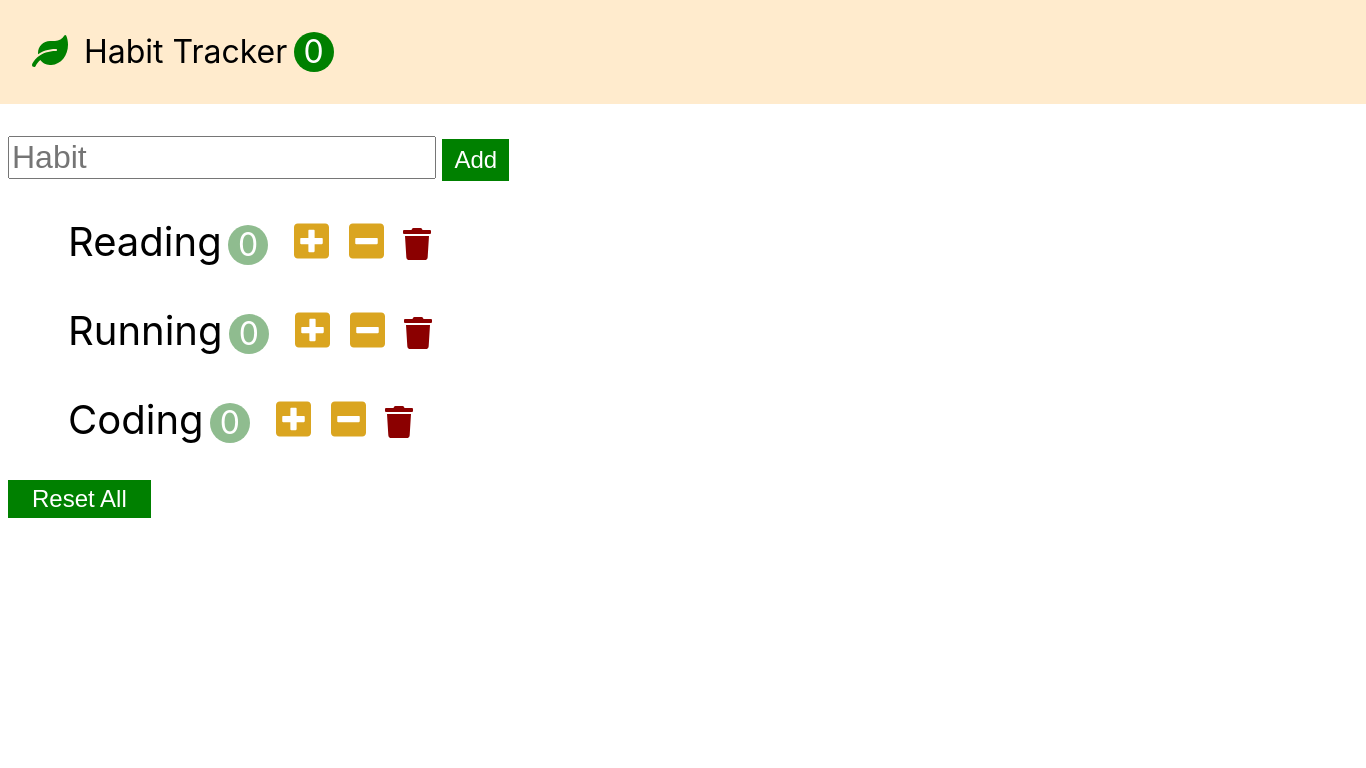
Test: Habit Tracker › add new habit to the end
The image size is (1366, 768).
Type "Debugging" into the field with placeholder "Habit" at [222, 158], box [8, 136, 436, 179]
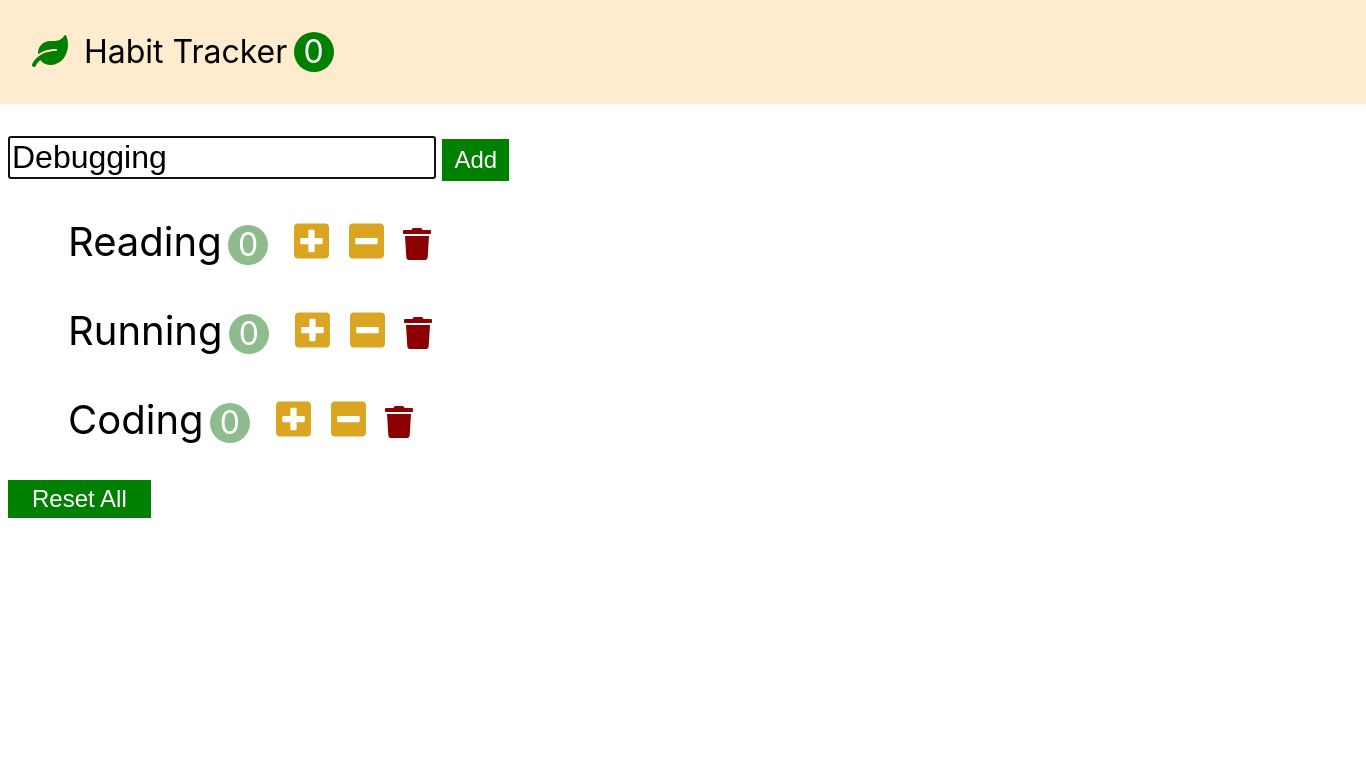
Click the button "Add" at [476, 160], box [442, 139, 509, 181]
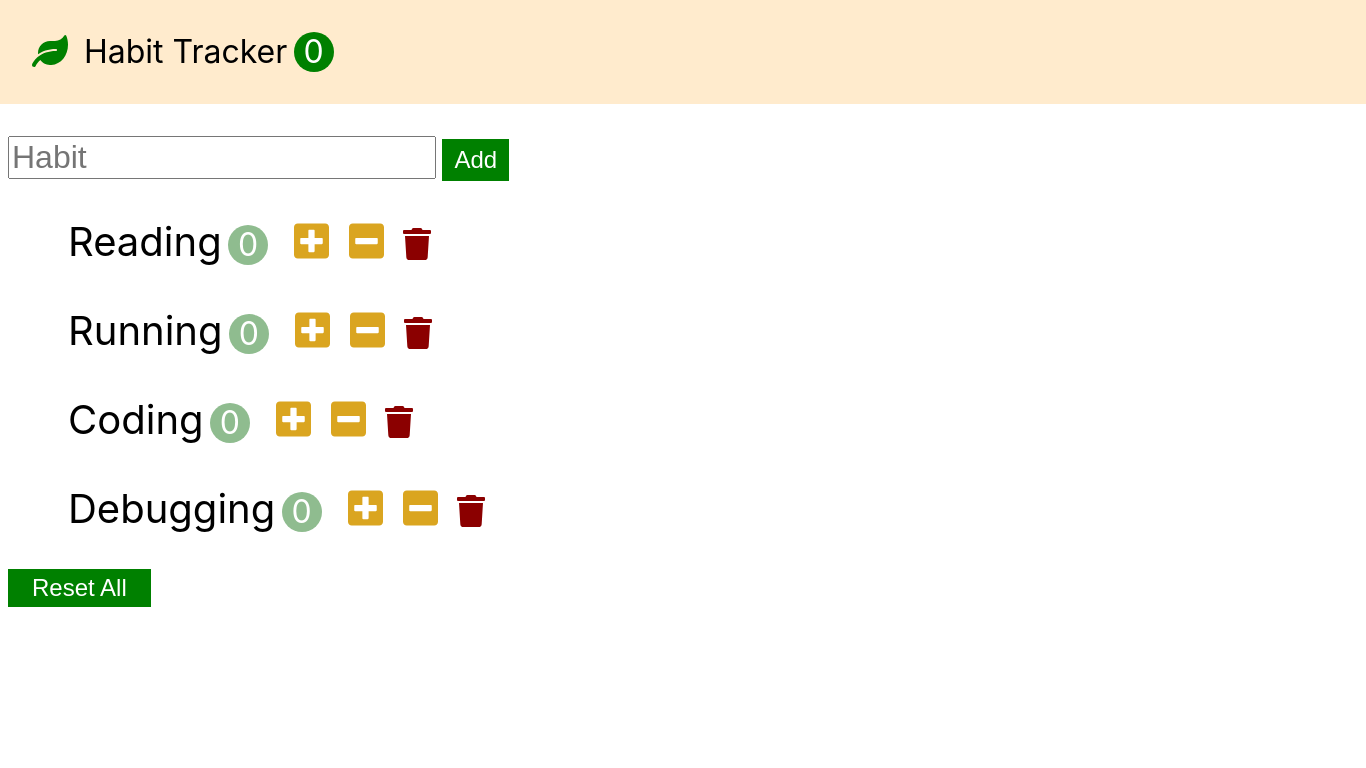
Expected: the text with test id "habit-name" reads "Debugging", [68, 484, 275, 533]
Expected: the text with test id "habit-count" next to "Debugging" reads "0", [282, 492, 322, 532]
